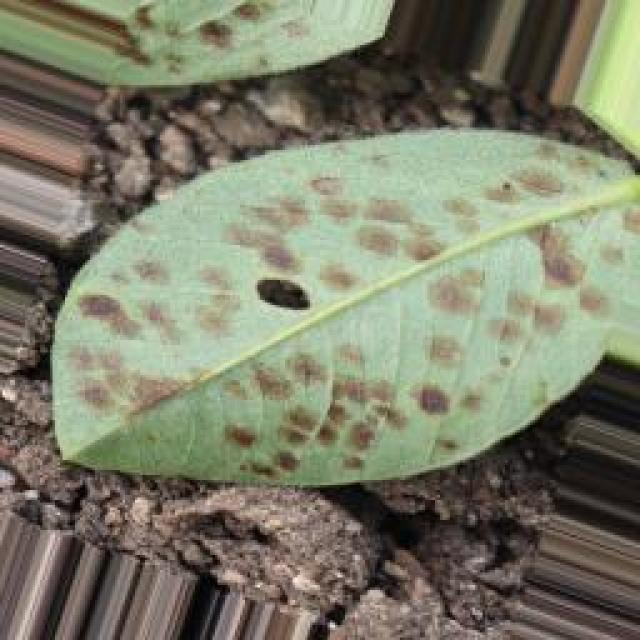Whitefly: (59, 0, 590, 506)
